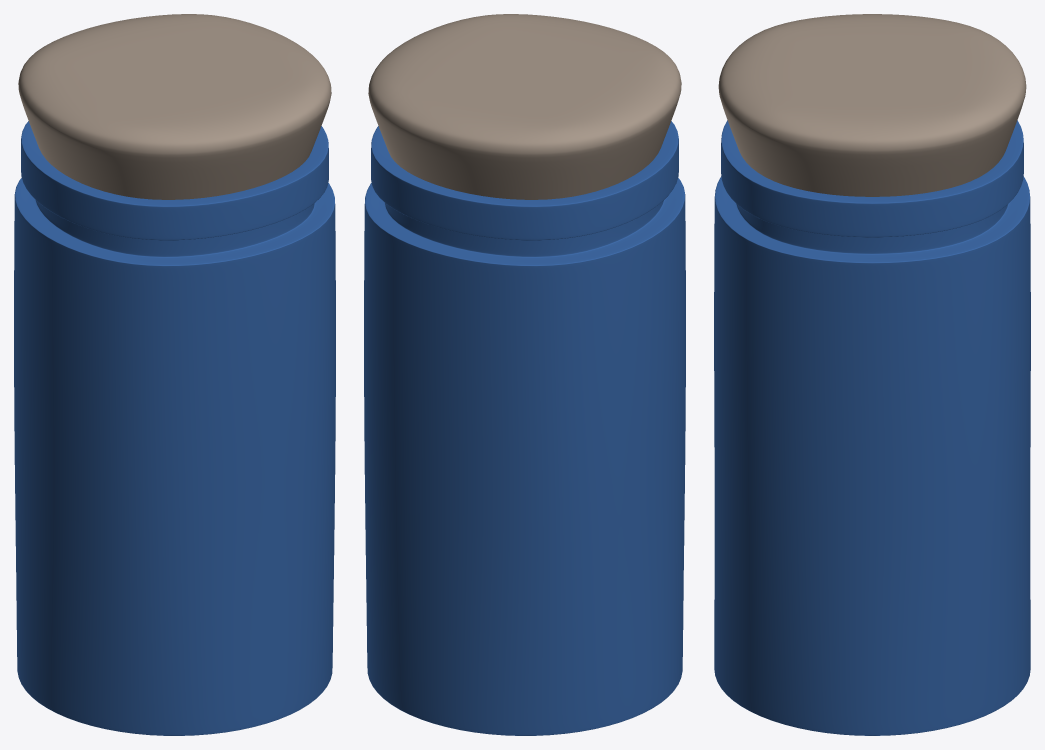
The model's file is jar_tall_cork.fbx.
The picture shows the model from 3 angles, left to right: view 1: azimuth 30°, elevation 25°; view 2: azimuth 150°, elevation 25°; view 3: azimuth 270°, elevation 25°; orthographic projection.
Parts seen in each view (by area): view 1: jar_tall_cork; view 2: jar_tall_cork; view 3: jar_tall_cork.
Part boxes in pixels (x1,y1,x2,y2): jar_tall_cork: [14, 14, 335, 735]; jar_tall_cork: [364, 14, 685, 735]; jar_tall_cork: [714, 14, 1030, 735].
Bounding box in the file's own units: 39.63 × 82.88 × 39.63.
